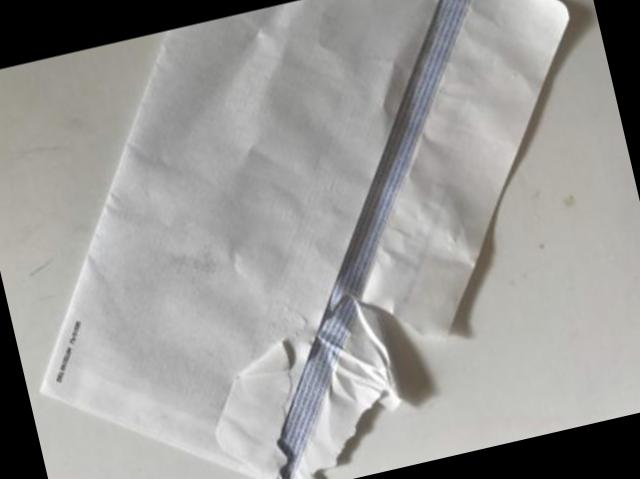cardboard paper: (41, 0, 566, 479)
